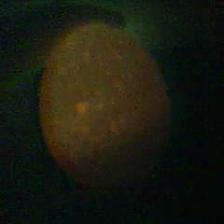fertile: (38, 19, 174, 196)
